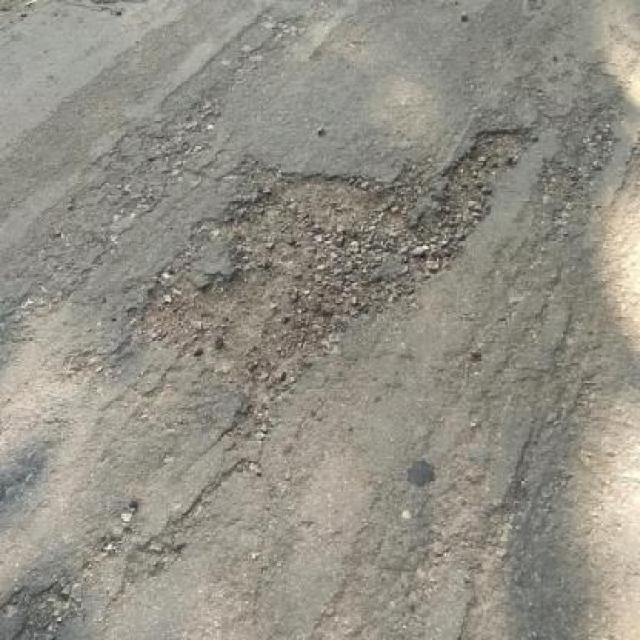Pothole: (128, 147, 454, 420), (437, 124, 538, 270)
